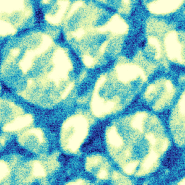hole_filled: (0, 27, 80, 109), (102, 105, 172, 178), (61, 4, 134, 65), (86, 59, 151, 118), (0, 96, 53, 156), (141, 13, 185, 75), (55, 109, 91, 156), (144, 72, 176, 109)
